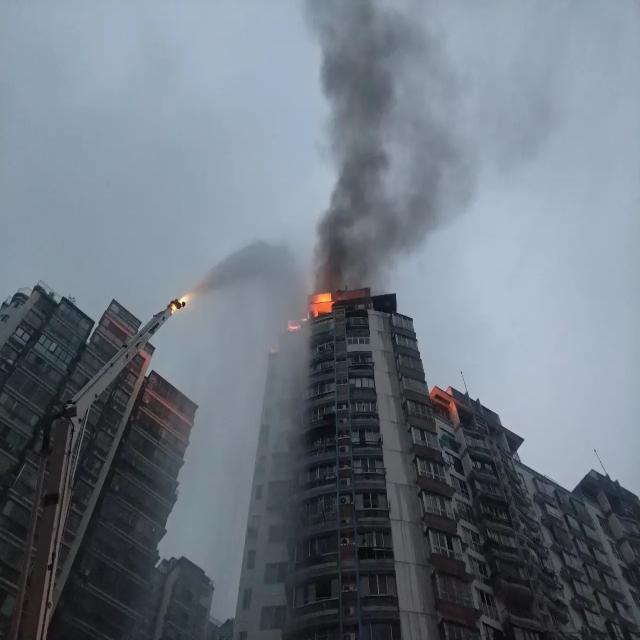Smoke: (300, 0, 553, 284)
